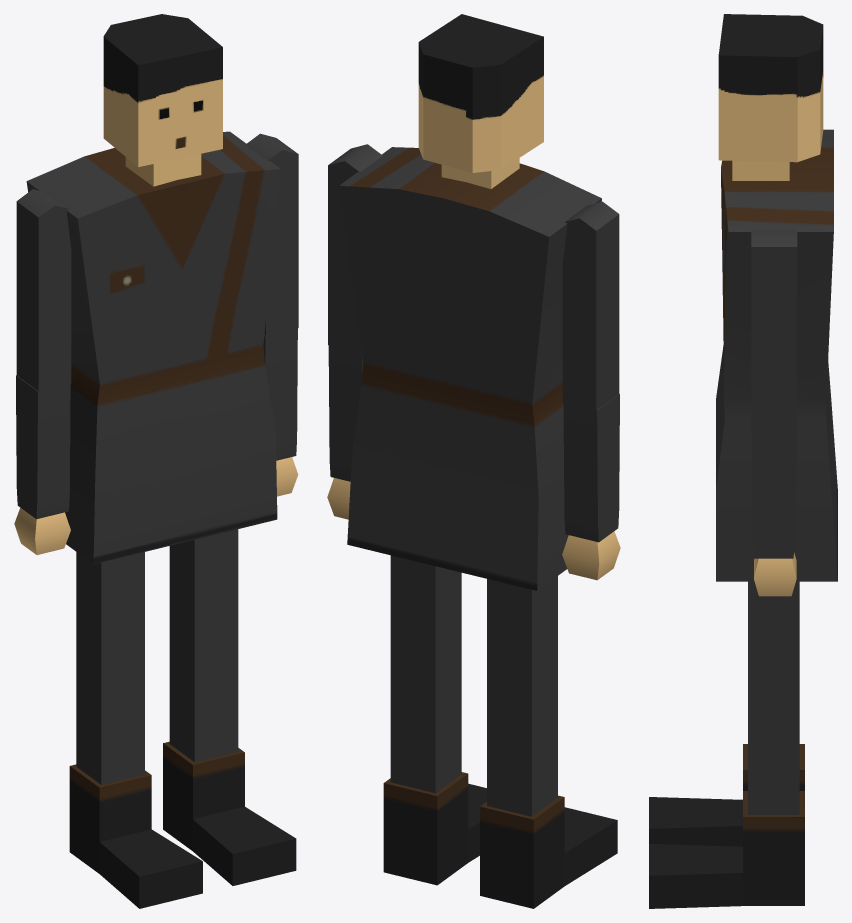
File: char_sergeant.fbx
3 views of the same model, side by side, from view 1: azimuth 30°, elevation 25°; view 2: azimuth 150°, elevation 25°; view 3: azimuth 270°, elevation 25° (orthographic). The views are drawn at different scales.
Visible parts, largest first — view 1: Sergeant, head, lower_leg, lower_leg1, upper_arm1, lower_arm1, foot, foot1, upper_leg1, upper_leg, upper_arm, lower_arm (+3 smaller); view 2: Sergeant, head, lower_leg, lower_leg1, upper_arm1, lower_arm1, upper_leg1, upper_leg, foot1, upper_arm, foot, lower_arm (+3 smaller); view 3: Sergeant, head, lower_leg, upper_arm, foot, lower_arm, foot1, upper_leg, hand, neck, lower_leg1.
Boxes of the visible parts, x1,y1,x2,y2 form: Sergeant: (26, 131, 280, 564); head: (103, 14, 222, 167); lower_leg: (163, 609, 244, 819); lower_leg1: (69, 631, 151, 841); upper_arm1: (16, 189, 71, 391); lower_arm1: (16, 375, 70, 519); foot: (163, 797, 296, 885); foot1: (69, 820, 202, 908); upper_leg1: (76, 552, 144, 649); upper_leg: (169, 529, 238, 626); upper_arm: (245, 133, 298, 335); lower_arm: (263, 328, 297, 460); Sergeant: (339, 147, 601, 590); head: (418, 14, 543, 172); lower_leg: (383, 634, 468, 852); lower_leg1: (480, 658, 564, 875); upper_arm1: (562, 201, 619, 410); lower_arm1: (563, 394, 619, 542); upper_leg1: (487, 576, 557, 676); upper_leg: (390, 555, 461, 653); foot1: (480, 807, 617, 908); upper_arm: (328, 144, 382, 353); foot: (383, 783, 486, 885); lower_arm: (328, 345, 363, 481); Sergeant: (716, 129, 837, 581); head: (718, 14, 823, 162); lower_leg: (743, 675, 804, 872); upper_arm: (751, 230, 797, 425); foot: (649, 844, 804, 908); lower_arm: (751, 426, 797, 558); foot1: (649, 797, 742, 846); upper_leg: (748, 581, 799, 675); hand: (754, 552, 796, 596); neck: (732, 160, 789, 180); lower_leg1: (743, 744, 804, 790).
Size of the model in its own units: 0.7905 by 2.32 by 0.4759.
